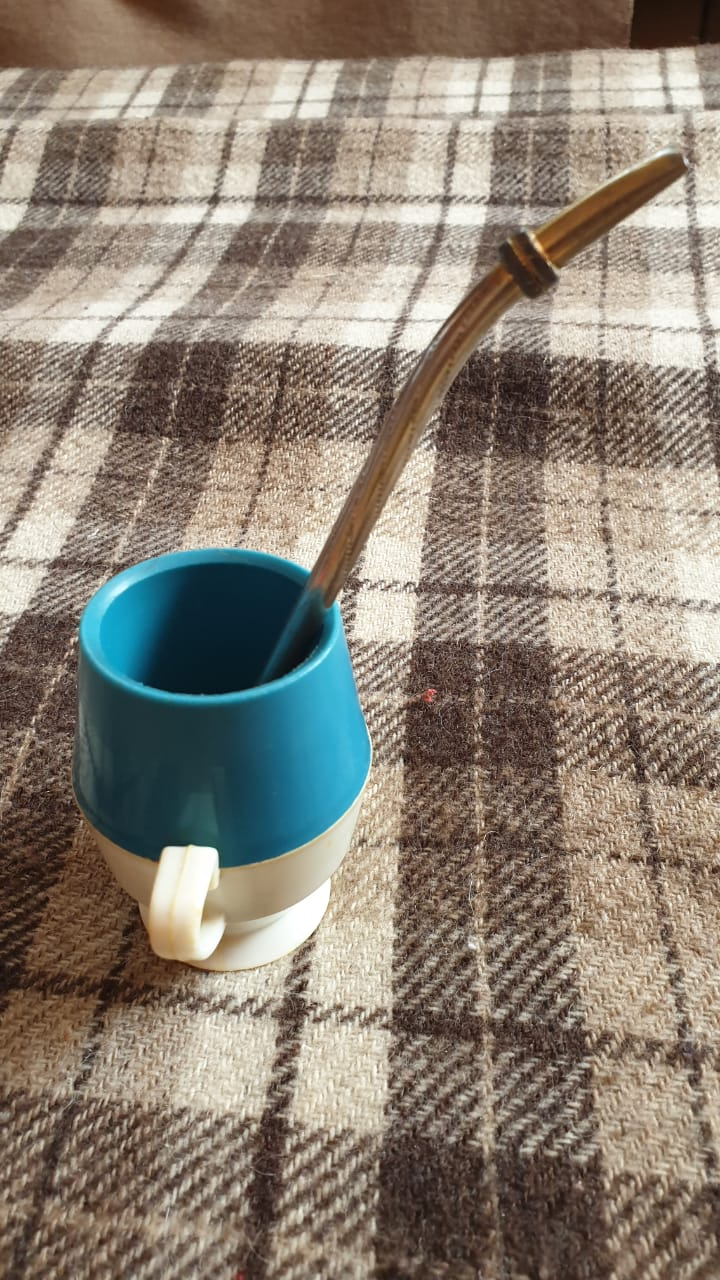mate: (44, 545, 387, 981)
plastico: (57, 559, 377, 970)
